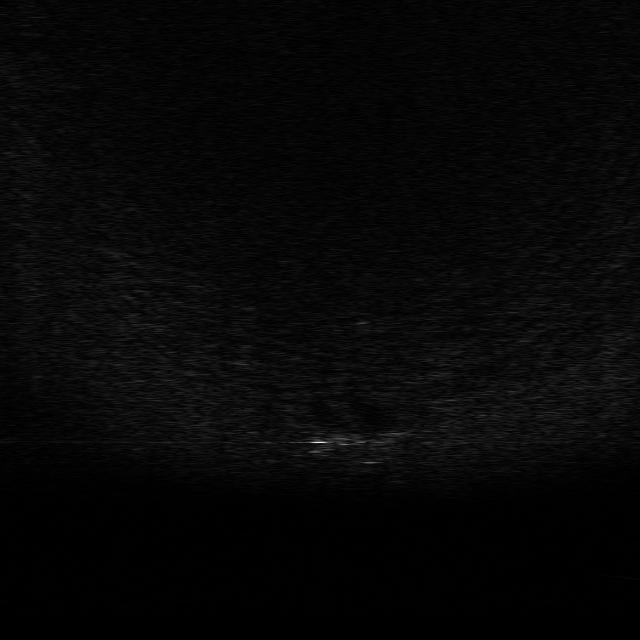plane: (305, 414, 406, 466)
